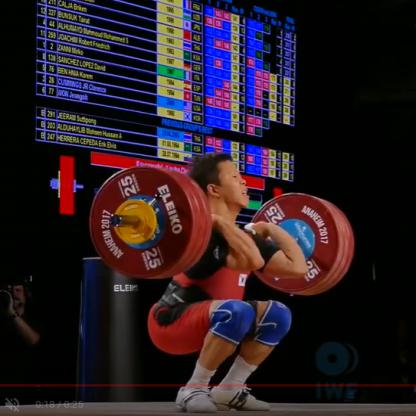Barbell: (84, 151, 213, 297)
